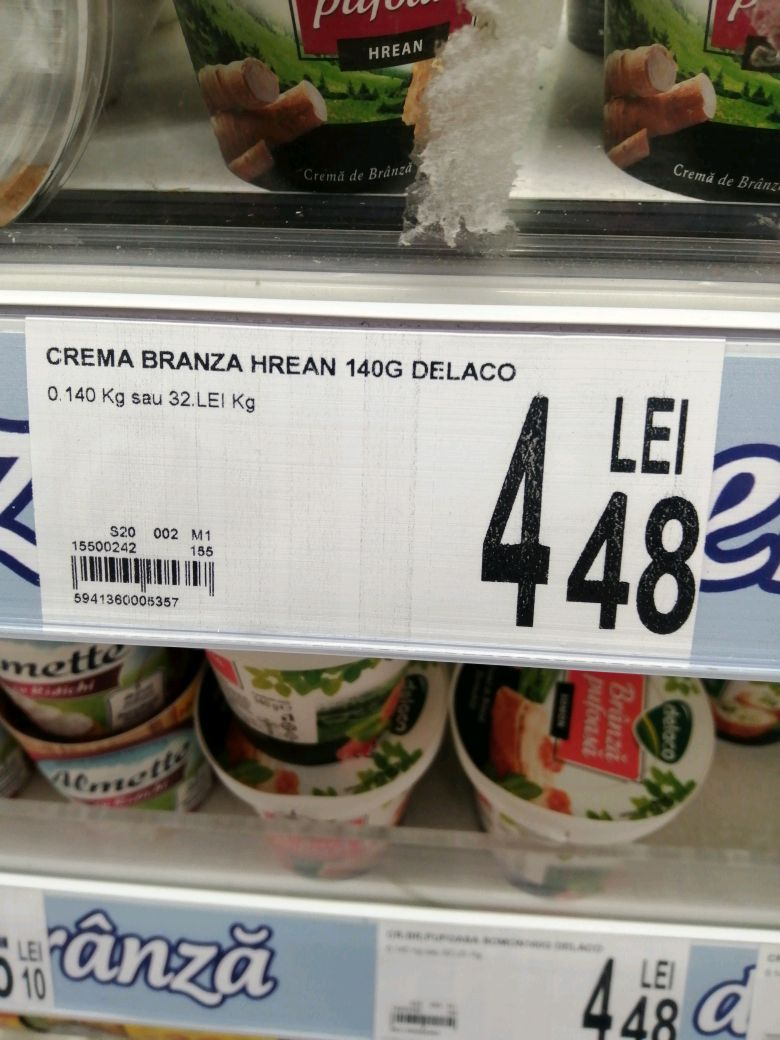price_bani: (563, 484, 708, 639)
price_lei: (469, 389, 559, 634)
price_tag: (10, 308, 735, 674)
product_id: (66, 589, 185, 617)
product_name: (38, 340, 518, 382)
